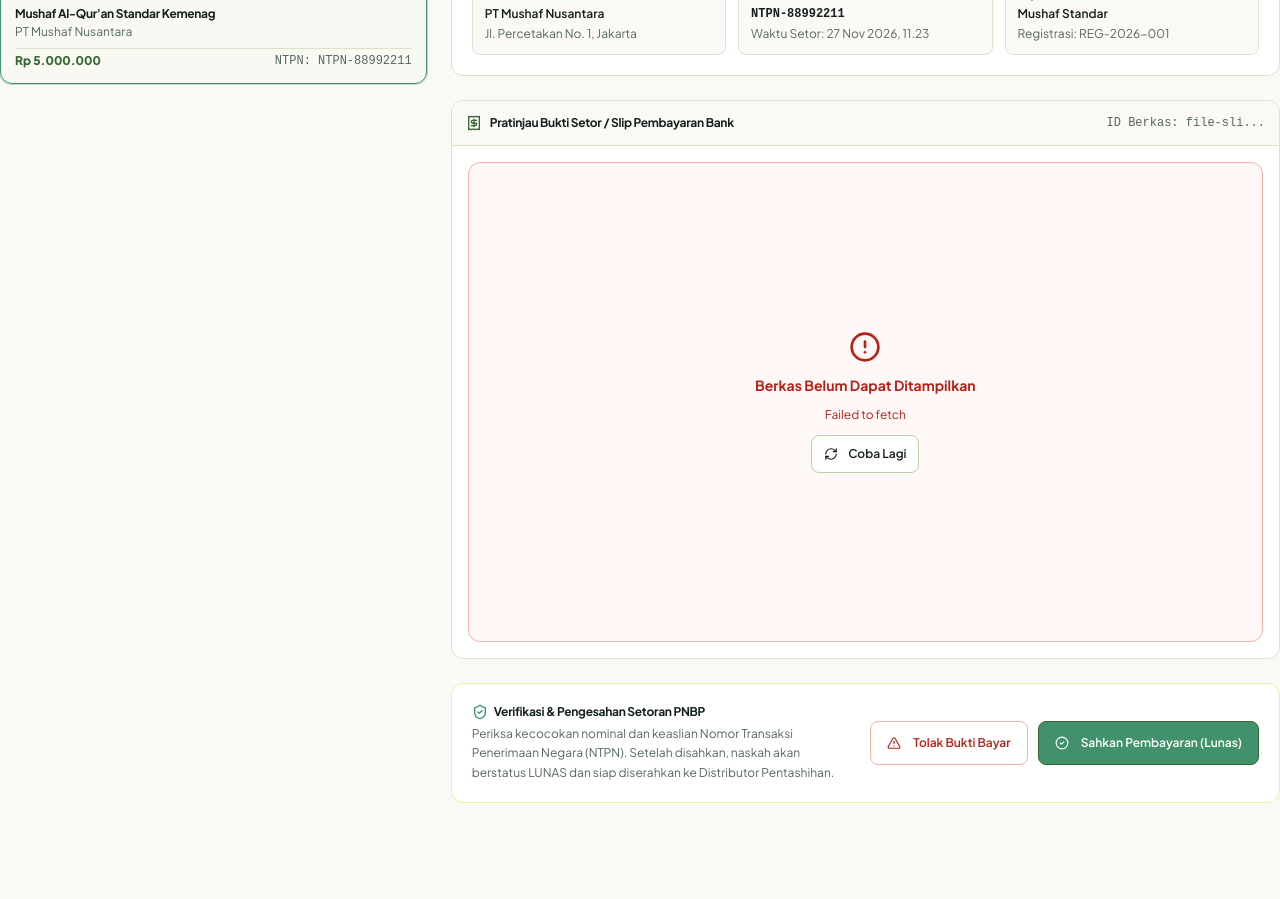
InternalPaymentQueuePage Component › menampilkan error di dalam dialog dan mengaktifkan tombol kembali bila pengesahan gagal
(page scrolled)
Click the button "Sahkan Pembayaran (Lunas)": click(1148, 743) [1038,721,1259,765]
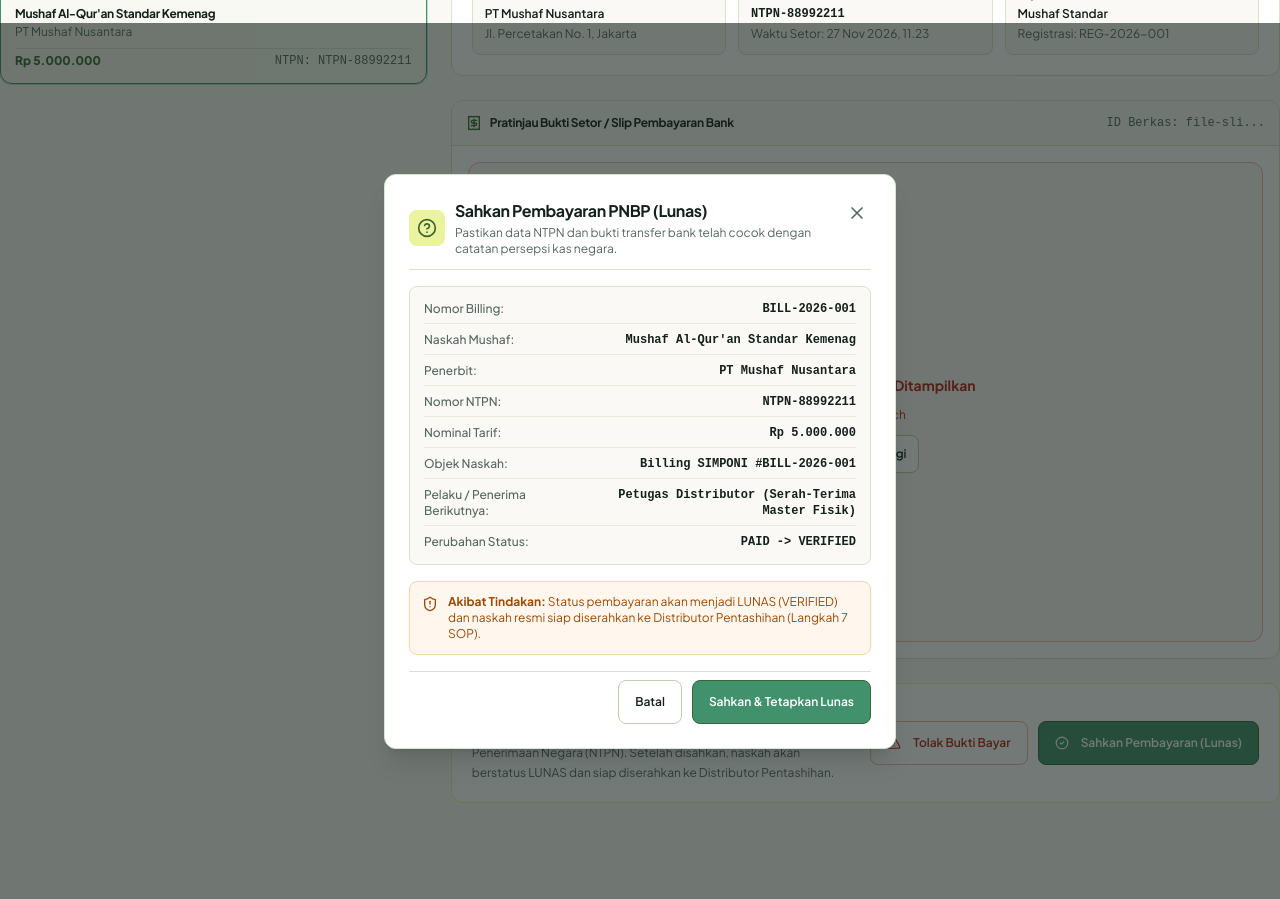
Click the button "Sahkan & Tetapkan Lunas": click(782, 702) [692,680,871,724]
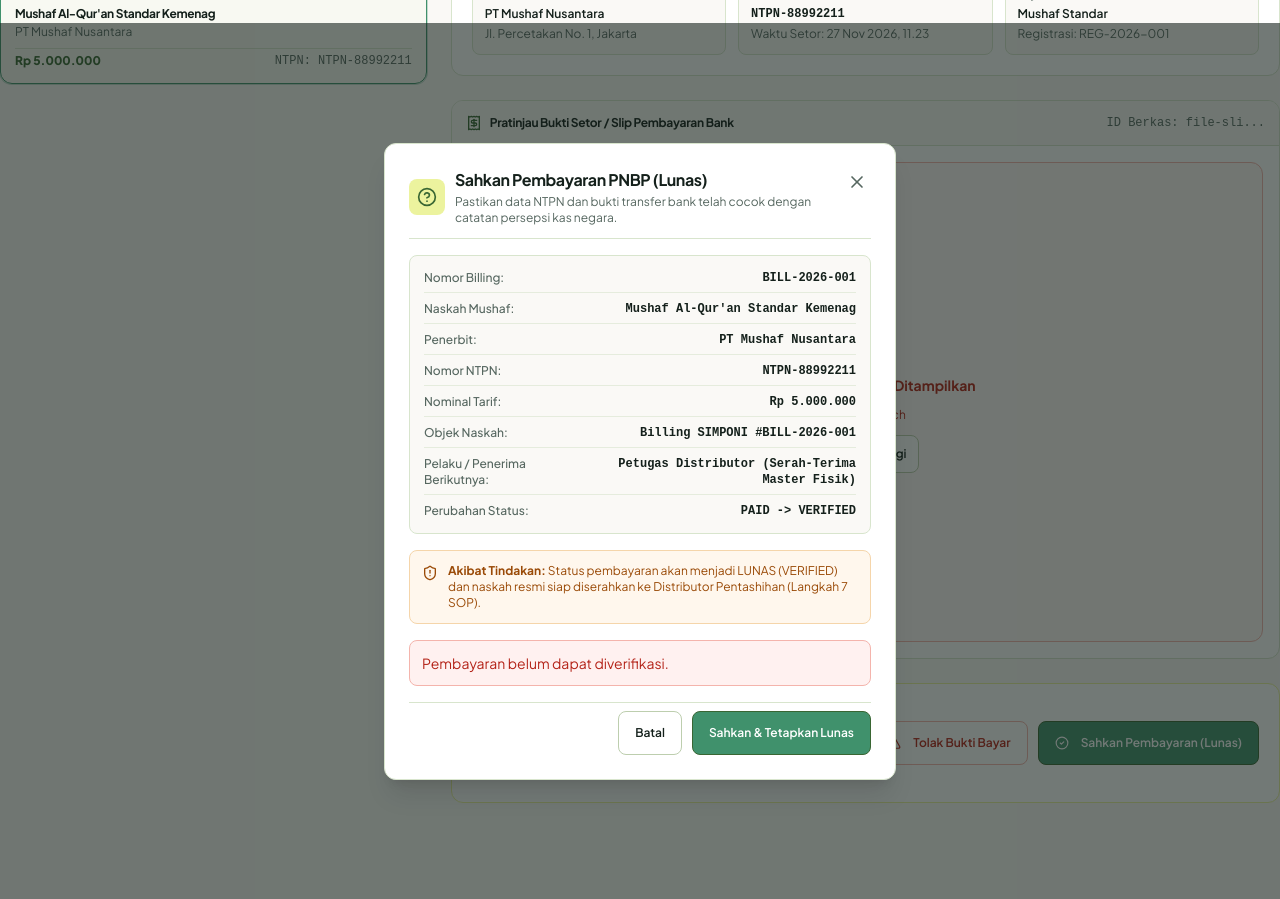
Expected: the dialog is shown
Expected: the button "Sahkan & Tetapkan Lunas" is enabled, [692,710,871,754]
Expected: the message reads "Pembayaran belum dapat diverifikasi.", [422,654,669,672]
